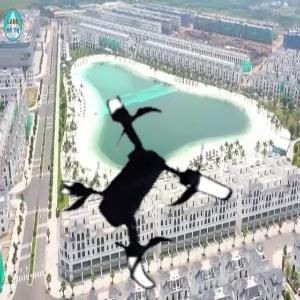drone: (51, 95, 250, 294)
